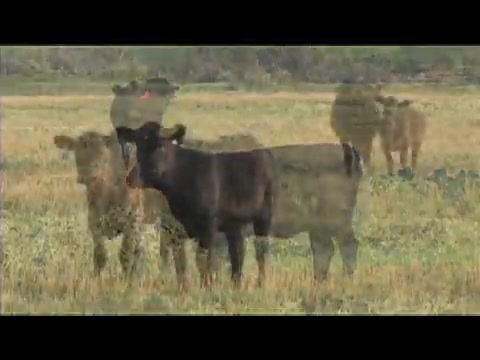cow: (116, 122, 365, 292), (54, 134, 269, 290), (332, 79, 381, 182), (376, 96, 429, 182), (111, 78, 183, 136)
